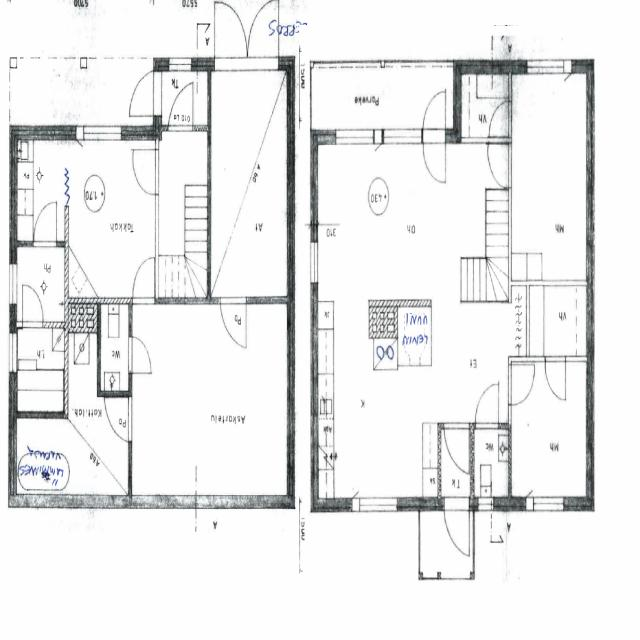door: (214, 0, 247, 71), (247, 0, 279, 71), (128, 72, 162, 116), (444, 496, 468, 556), (220, 298, 246, 349), (422, 130, 445, 186), (422, 90, 445, 144), (130, 150, 158, 194), (444, 422, 468, 473), (168, 82, 192, 132), (105, 398, 132, 442), (485, 147, 512, 189), (475, 381, 498, 428), (508, 364, 534, 404), (34, 202, 56, 247), (544, 355, 566, 399), (128, 336, 152, 373), (22, 286, 43, 328), (133, 261, 153, 304), (489, 100, 512, 136)
